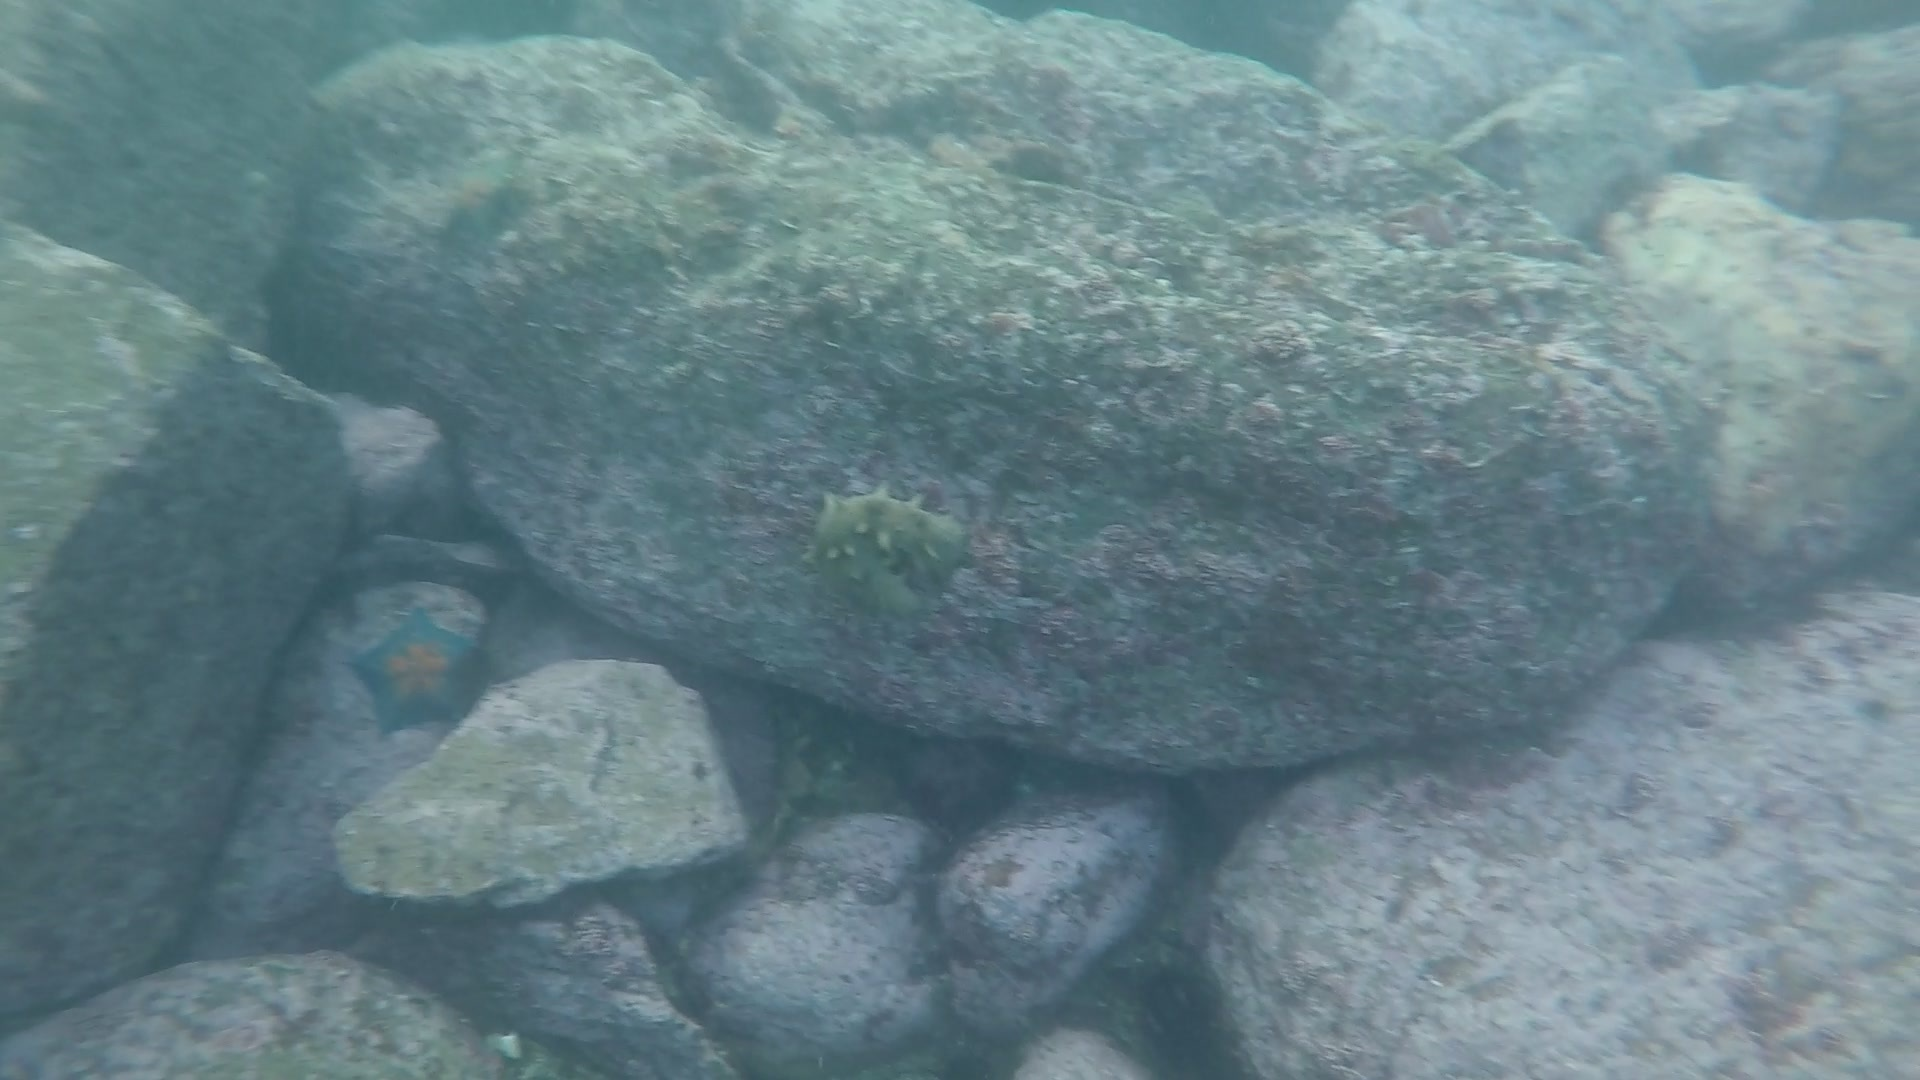echinus: (1116, 951, 1249, 1077)
holothurian: (799, 477, 978, 608)
starfish: (344, 603, 493, 741), (426, 141, 534, 252)
